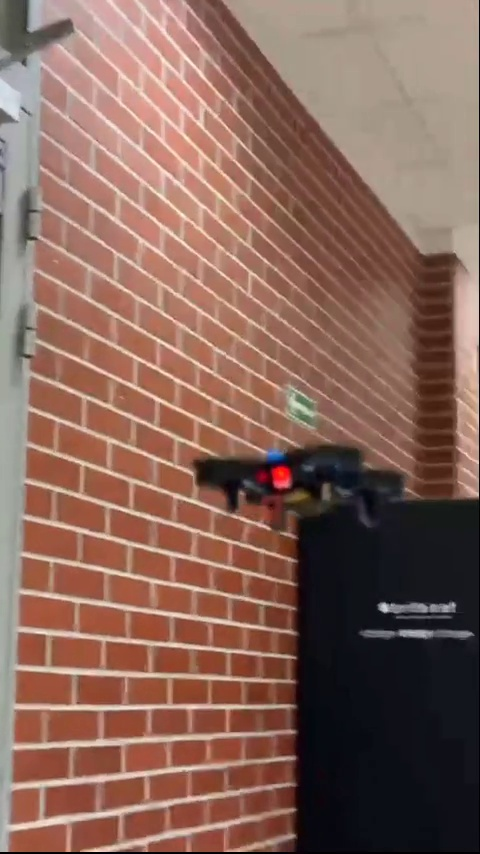drone: (189, 445, 402, 535)
